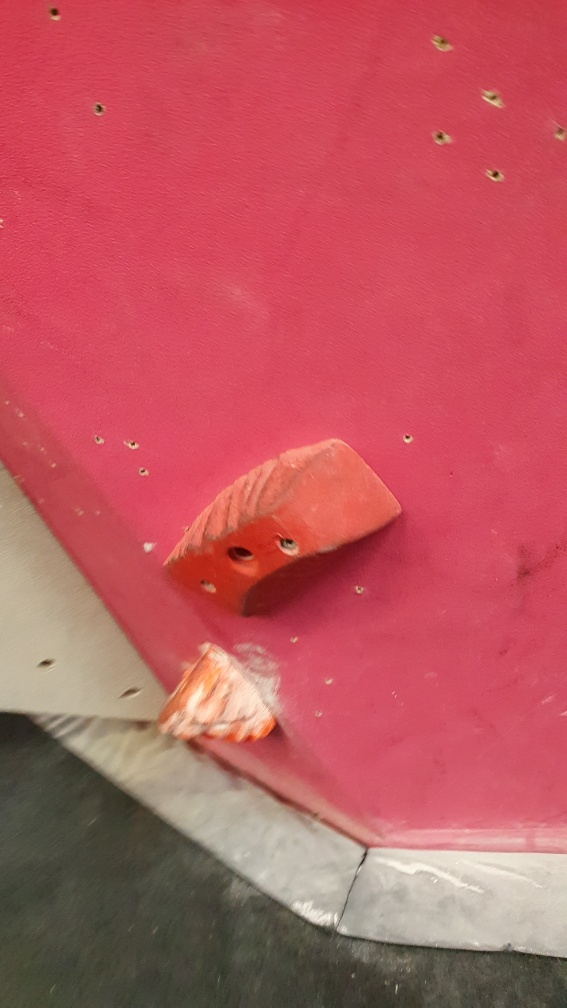Crimp: (160, 434, 406, 623)
Jug: (148, 642, 279, 750)
